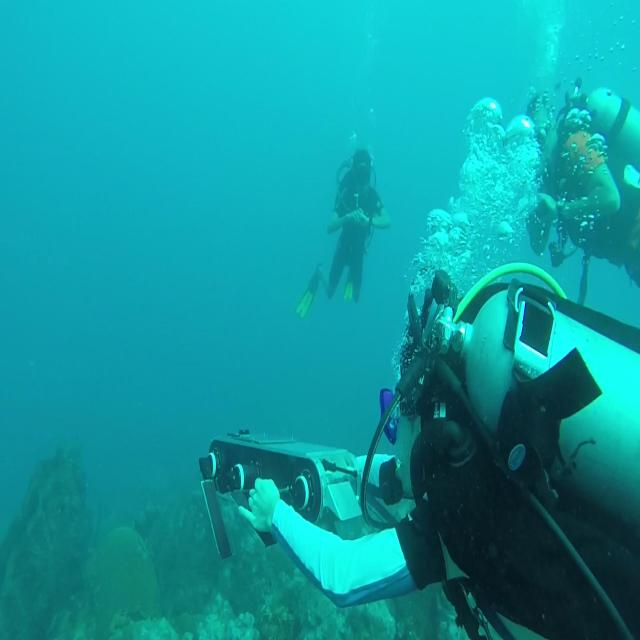human: (222, 265, 638, 638), (526, 85, 639, 294), (295, 146, 390, 320)
